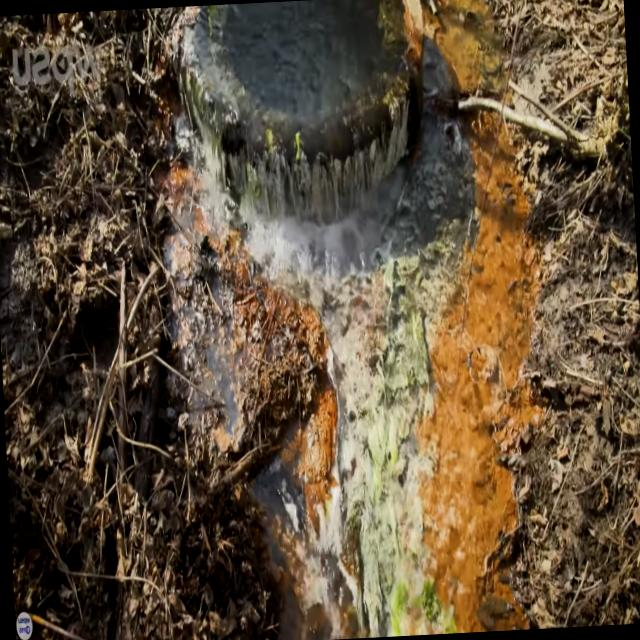yellow_boy: (168, 113, 531, 637)
